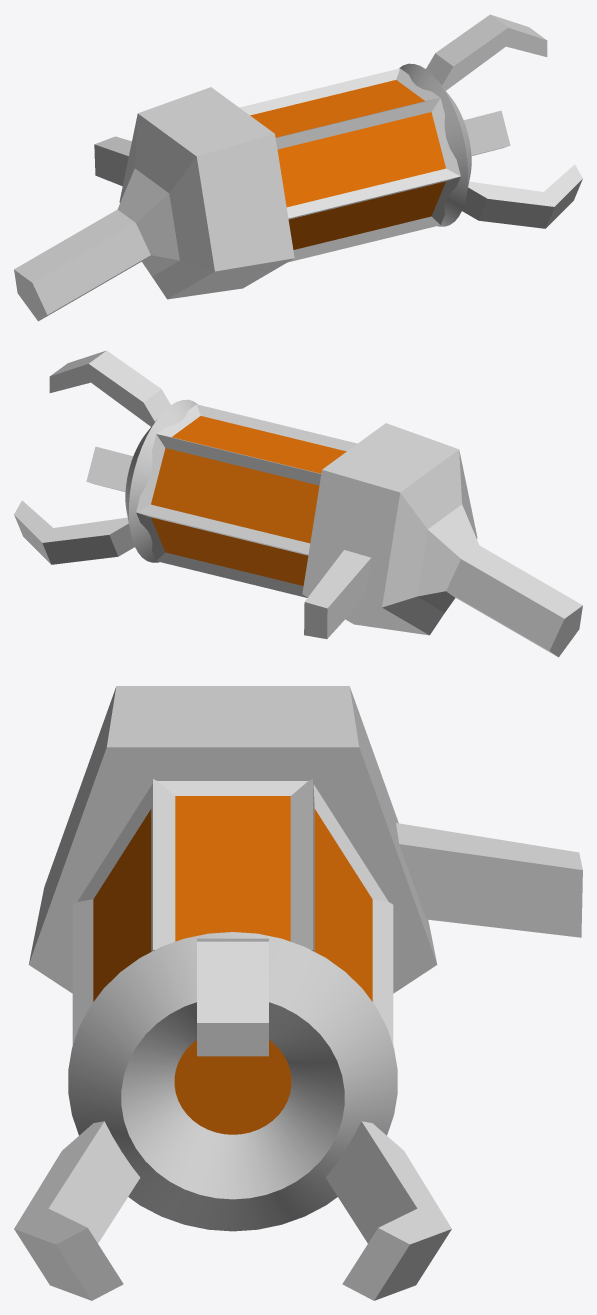
The model's file is physicsGrabber.fbx.
The picture shows the model from 3 angles, top to bottom: view 1: azimuth 30°, elevation 25°; view 2: azimuth 150°, elevation 25°; view 3: azimuth 270°, elevation 25°; orthographic projection. The views are drawn at different scales.
Visible parts, largest first — view 1: Cylinder.002, Cylinder, Cylinder.001, Cube.001, Cube, Torus.001, Cube.002; view 2: Cylinder.002, Cylinder, Cylinder.001, Cube.002, Cube, Torus.001, Cube.001; view 3: Cylinder.002, Torus.001, Cylinder, Cylinder.001, Cube.001, Cube.002, Cube.
Part boxes in pixels (left/top/right/bottom): Cylinder.002: left=14, top=87, right=294, bottom=321; Cylinder: left=250, top=80, right=445, bottom=249; Cylinder.001: left=239, top=68, right=460, bottom=262; Cube.001: left=462, top=164, right=582, bottom=228; Cube: left=426, top=14, right=547, bottom=90; Torus.001: left=399, top=63, right=471, bottom=226; Cube.002: left=463, top=110, right=510, bottom=156; Cylinder.002: left=302, top=423, right=582, bottom=657; Cylinder: left=151, top=416, right=346, bottom=585; Cylinder.001: left=136, top=404, right=357, bottom=597; Cube.002: left=14, top=500, right=134, bottom=564; Cube: left=49, top=350, right=170, bottom=426; Torus.001: left=125, top=399, right=197, bottom=562; Cube.001: left=86, top=446, right=133, bottom=492; Cylinder.002: left=28, top=686, right=582, bottom=993; Torus.001: left=68, top=932, right=397, bottom=1231; Cylinder: left=93, top=796, right=372, bottom=1134; Cylinder.001: left=72, top=779, right=393, bottom=1045; Cube.001: left=14, top=1121, right=140, bottom=1300; Cube.002: left=325, top=1121, right=451, bottom=1300; Cube: left=197, top=938, right=268, bottom=1056.
Bounding box in the file's own units: 797 × 303 × 386.
